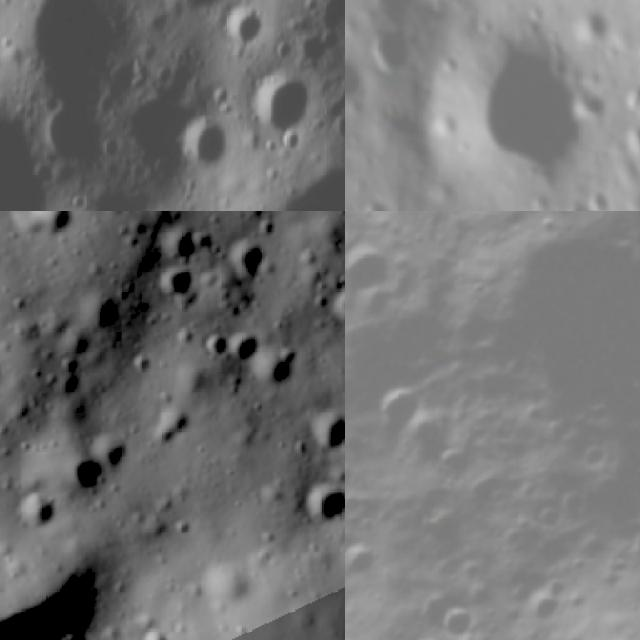crater: (458, 32, 613, 188), (27, 82, 136, 171), (0, 572, 113, 640), (237, 70, 328, 149), (0, 120, 76, 211), (248, 140, 345, 211), (345, 218, 410, 315), (358, 366, 434, 448), (172, 116, 235, 180), (368, 19, 430, 81), (509, 577, 569, 639), (240, 341, 298, 398), (141, 399, 199, 454), (62, 446, 115, 504), (291, 407, 345, 463), (154, 214, 209, 268), (428, 436, 482, 490), (430, 593, 491, 640), (295, 477, 345, 534), (15, 211, 86, 249), (152, 262, 205, 312), (227, 232, 274, 288), (219, 7, 262, 67), (77, 286, 123, 338), (216, 325, 264, 372), (72, 188, 161, 211), (16, 487, 56, 538), (345, 52, 377, 114), (52, 326, 97, 362), (166, 0, 232, 24), (362, 0, 431, 20), (504, 211, 561, 233), (388, 622, 456, 640), (353, 184, 397, 211), (124, 346, 160, 376), (56, 371, 93, 400), (328, 275, 345, 332), (38, 625, 102, 640), (238, 211, 274, 234), (554, 192, 597, 211), (248, 219, 282, 243), (620, 118, 640, 157), (167, 512, 194, 539), (134, 625, 173, 640), (556, 630, 605, 640)
